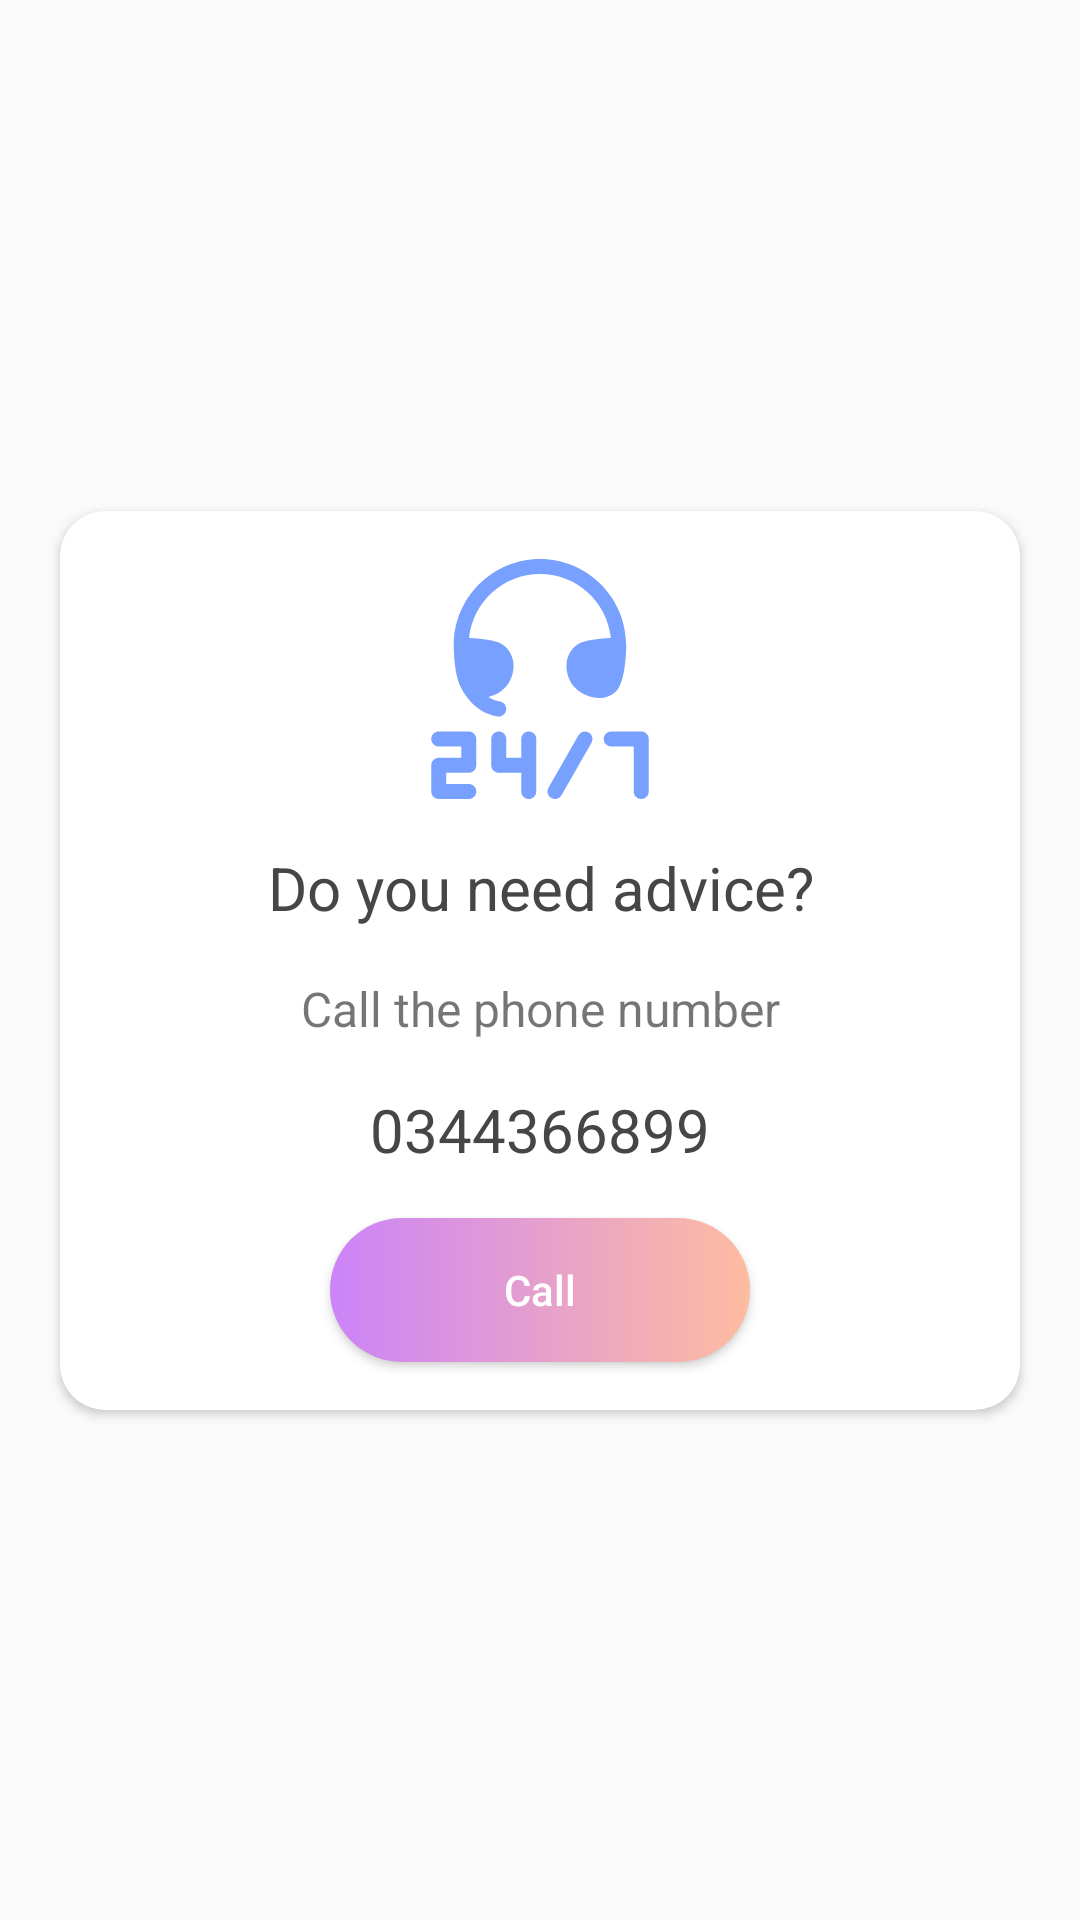

Point at icon controls on the screen. Image size 1080 x 1920, points as [x,y].
support: [540,679]
